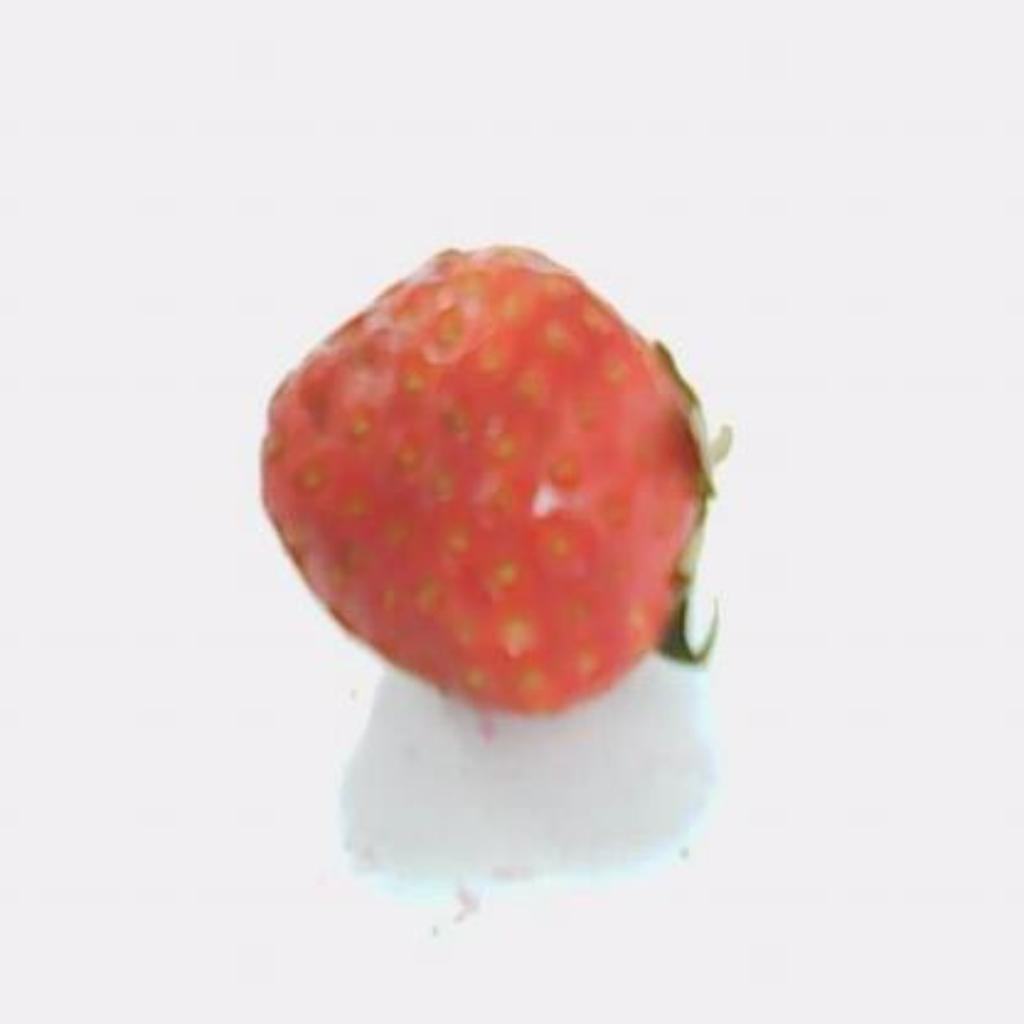strawberry: (262, 246, 732, 711)
